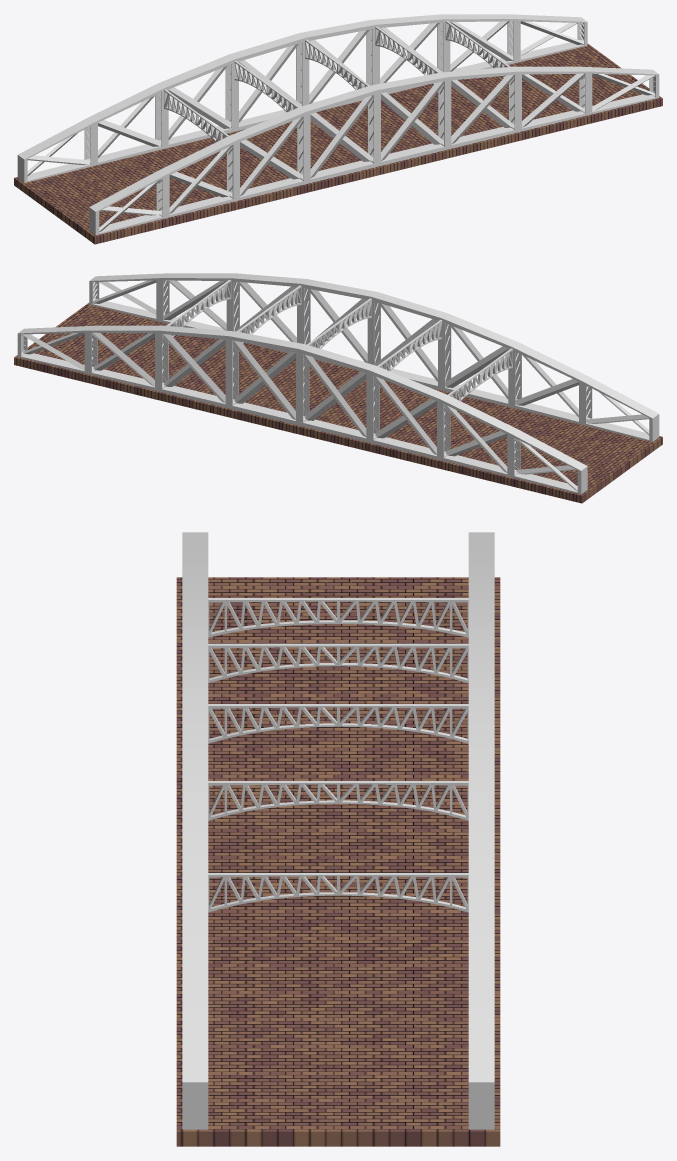
Rendered from PuenteDeHierro7.fbx.
3 renders of one model, top to bottom at view 1: azimuth 30°, elevation 25°; view 2: azimuth 150°, elevation 25°; view 3: azimuth 270°, elevation 25°, orthographic. The views are drawn at different scales.
Visible parts, largest first — view 1: Bridge; view 2: Bridge; view 3: Bridge.
Part boxes in pixels (x1,y1,x2,y2): Bridge: [14, 14, 662, 244]; Bridge: [14, 273, 662, 503]; Bridge: [176, 532, 500, 1146].
Bounding box in the file's own units: 5040 × 713 × 1243.
2 materials, 1 textured.
